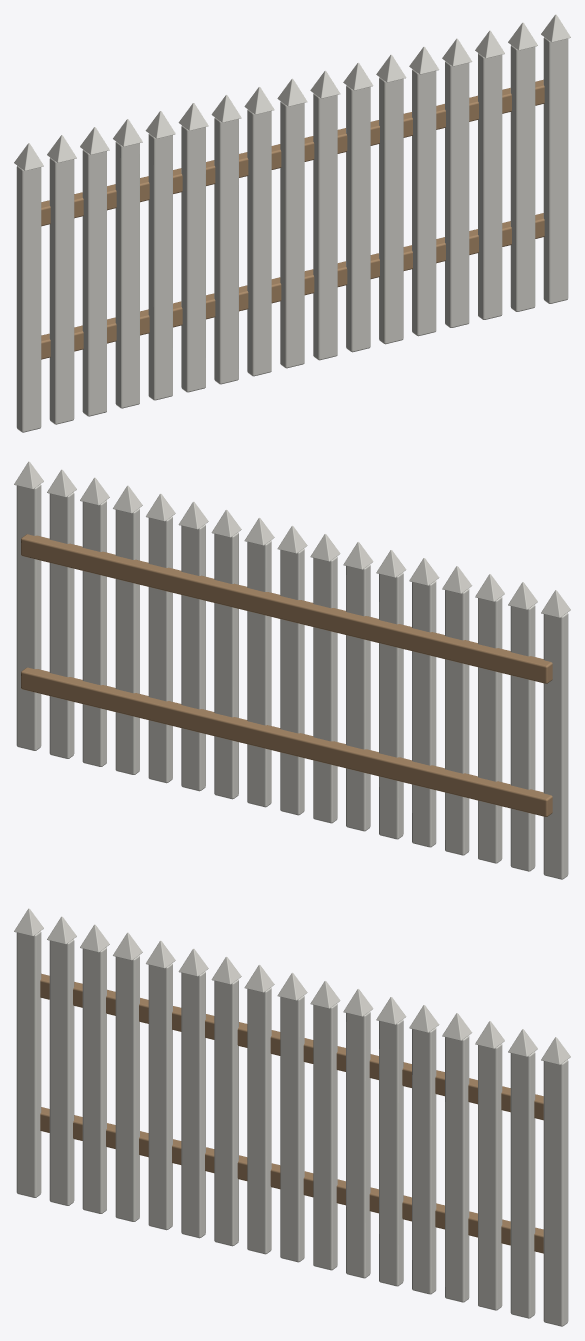
File: fence.glb
The picture shows the model from 3 angles, top to bottom: view 1: azimuth 30°, elevation 25°; view 2: azimuth 150°, elevation 25°; view 3: azimuth 330°, elevation 25°; orthographic projection.
Parts seen in each view (by area): view 1: fence; view 2: fence; view 3: fence.
Part boxes in pixels (x1=…): fence: x1=14, y1=14, x2=570, y2=432; fence: x1=14, y1=461, x2=570, y2=879; fence: x1=14, y1=908, x2=570, y2=1326.
Size of the model in its own units: 2.49 by 1.25 by 0.1141.
